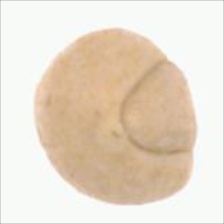L5: (118, 56, 198, 156), (34, 92, 51, 160)
L6: (34, 27, 199, 206)
